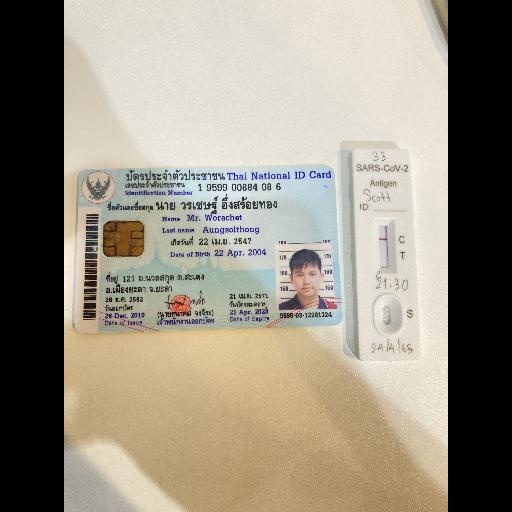Neg: (354, 147, 416, 359)
